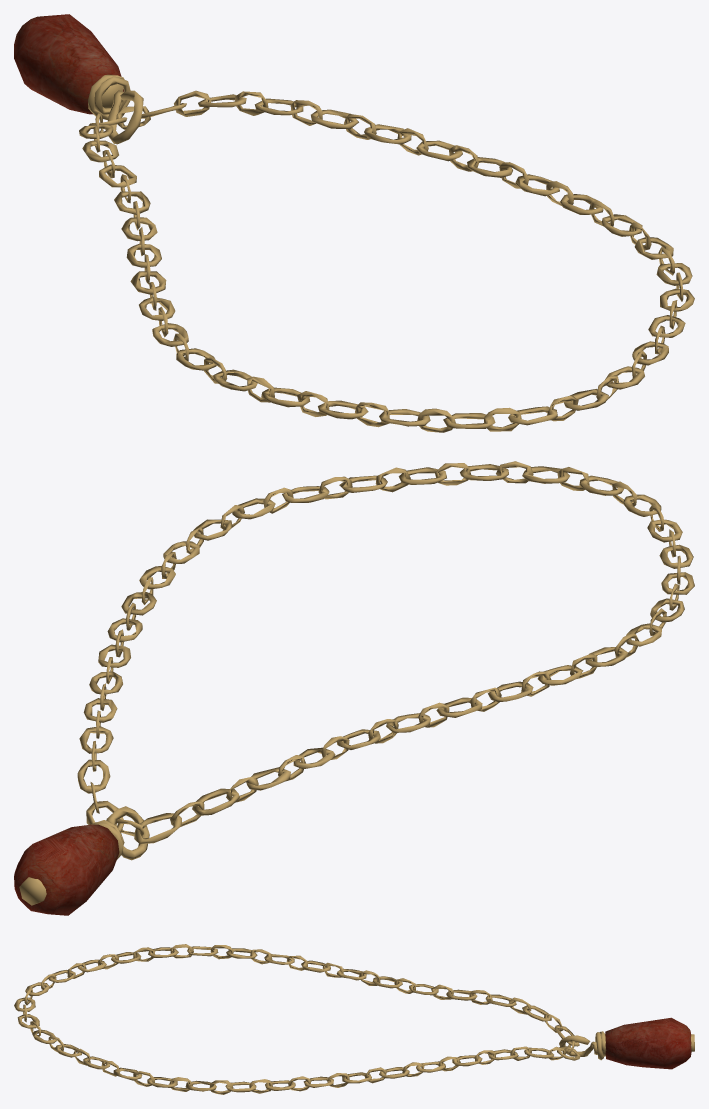
File: Necklace1.glb
3 renders of one model, top to bottom at view 1: azimuth 30°, elevation 25°; view 2: azimuth 150°, elevation 25°; view 3: azimuth 270°, elevation 25°, orthographic. The views are drawn at different scales.
Parts seen in each view (by area): view 1: 11777_necklace_v1_l3; view 2: 11777_necklace_v1_l3; view 3: 11777_necklace_v1_l3.
Part boxes in pixels (left/top/right/bottom): 11777_necklace_v1_l3: left=14, top=14, right=694, bottom=432; 11777_necklace_v1_l3: left=14, top=461, right=694, bottom=915; 11777_necklace_v1_l3: left=14, top=944, right=694, bottom=1094.
Size of the model in its own units: 6.44 by 1.14 by 12.84.
Materials: 2 (1 with a texture image).
